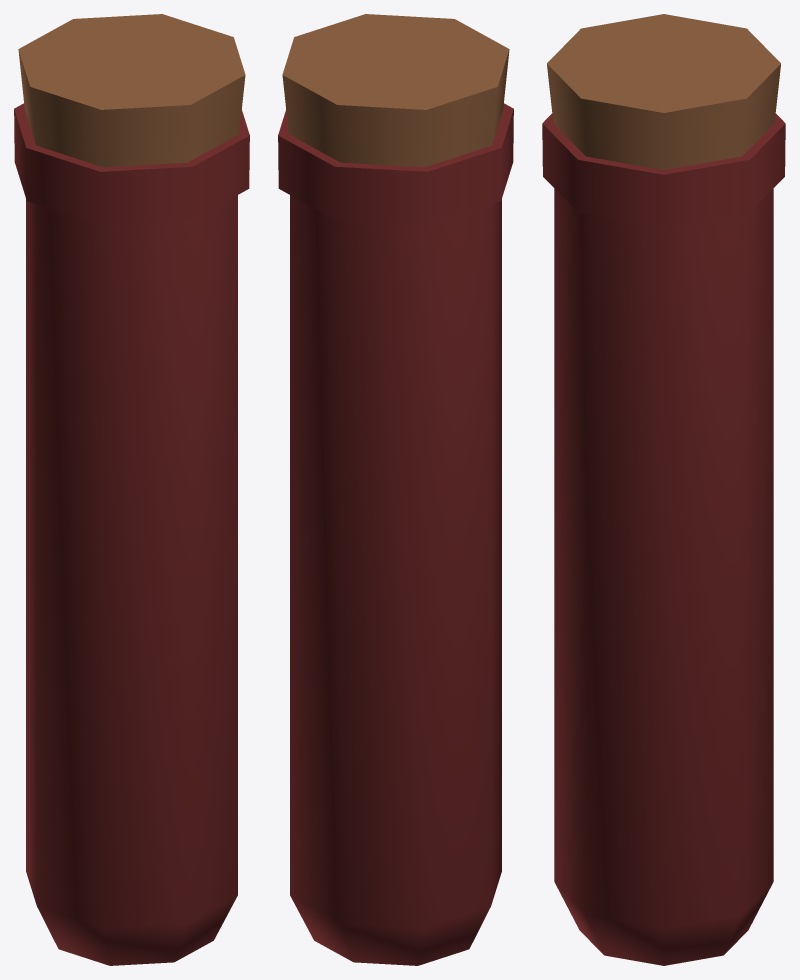
The model's file is Potion_08.fbx.
The picture shows the model from 3 angles, left to right: view 1: azimuth 30°, elevation 25°; view 2: azimuth 150°, elevation 25°; view 3: azimuth 270°, elevation 25°; orthographic projection.
Parts seen in each view (by area): view 1: Potion_08, Potion_08_Top; view 2: Potion_08, Potion_08_Top; view 3: Potion_08, Potion_08_Top.
Boxes of the visible parts, <box> form: Potion_08: <box>14,103,249,965</box>; Potion_08_Top: <box>18,14,245,167</box>; Potion_08: <box>278,103,513,965</box>; Potion_08_Top: <box>282,14,509,167</box>; Potion_08: <box>542,113,785,965</box>; Potion_08_Top: <box>547,14,780,169</box>.
Bounding box in the file's own units: 0.0601 × 0.2418 × 0.0601.
